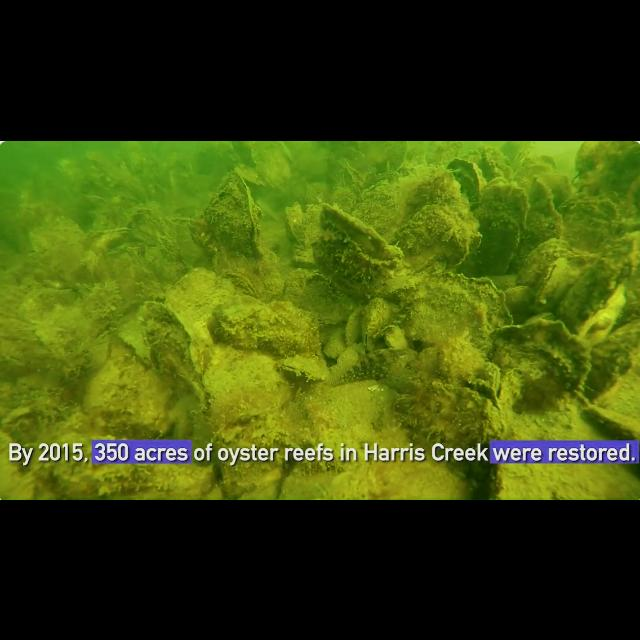Oyster-Closed: (39, 430, 217, 500), (392, 380, 508, 482), (400, 271, 514, 353), (484, 317, 592, 401), (310, 202, 404, 292), (215, 410, 287, 500), (166, 266, 236, 358), (137, 300, 205, 394), (390, 197, 474, 267), (202, 168, 264, 260), (210, 352, 286, 424), (209, 297, 279, 348), (574, 286, 628, 344), (77, 362, 129, 418), (482, 180, 532, 237), (28, 220, 88, 266), (105, 243, 158, 295), (388, 178, 469, 212), (520, 234, 578, 280), (598, 223, 640, 284), (576, 401, 640, 441), (480, 213, 518, 270), (127, 206, 169, 252), (497, 278, 541, 316), (446, 154, 484, 196), (86, 334, 114, 372), (154, 230, 184, 264), (346, 304, 368, 344), (322, 328, 348, 360), (64, 347, 84, 383), (383, 327, 413, 347)
Oyster-Open: (568, 140, 640, 204), (357, 291, 395, 353), (535, 254, 569, 306), (278, 354, 328, 384), (222, 269, 260, 301), (2, 403, 36, 431), (90, 225, 134, 239)
